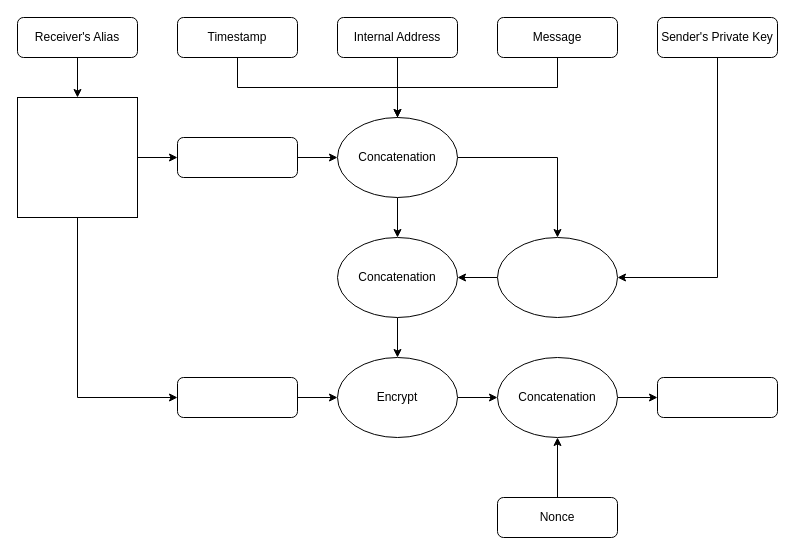
Some shapes in this 795 by 555 pixel diagram are drawn without their labels. The centre of each missing label's shape, as x and y in pixels:
(Other Alias) : (Public Key, My Alias) Map: the point at 77,157
Encoded Message: the point at 717,397
Receiver's Public Key: the point at 237,397
Sender Alias: the point at 237,157
Sign: the point at 557,277
